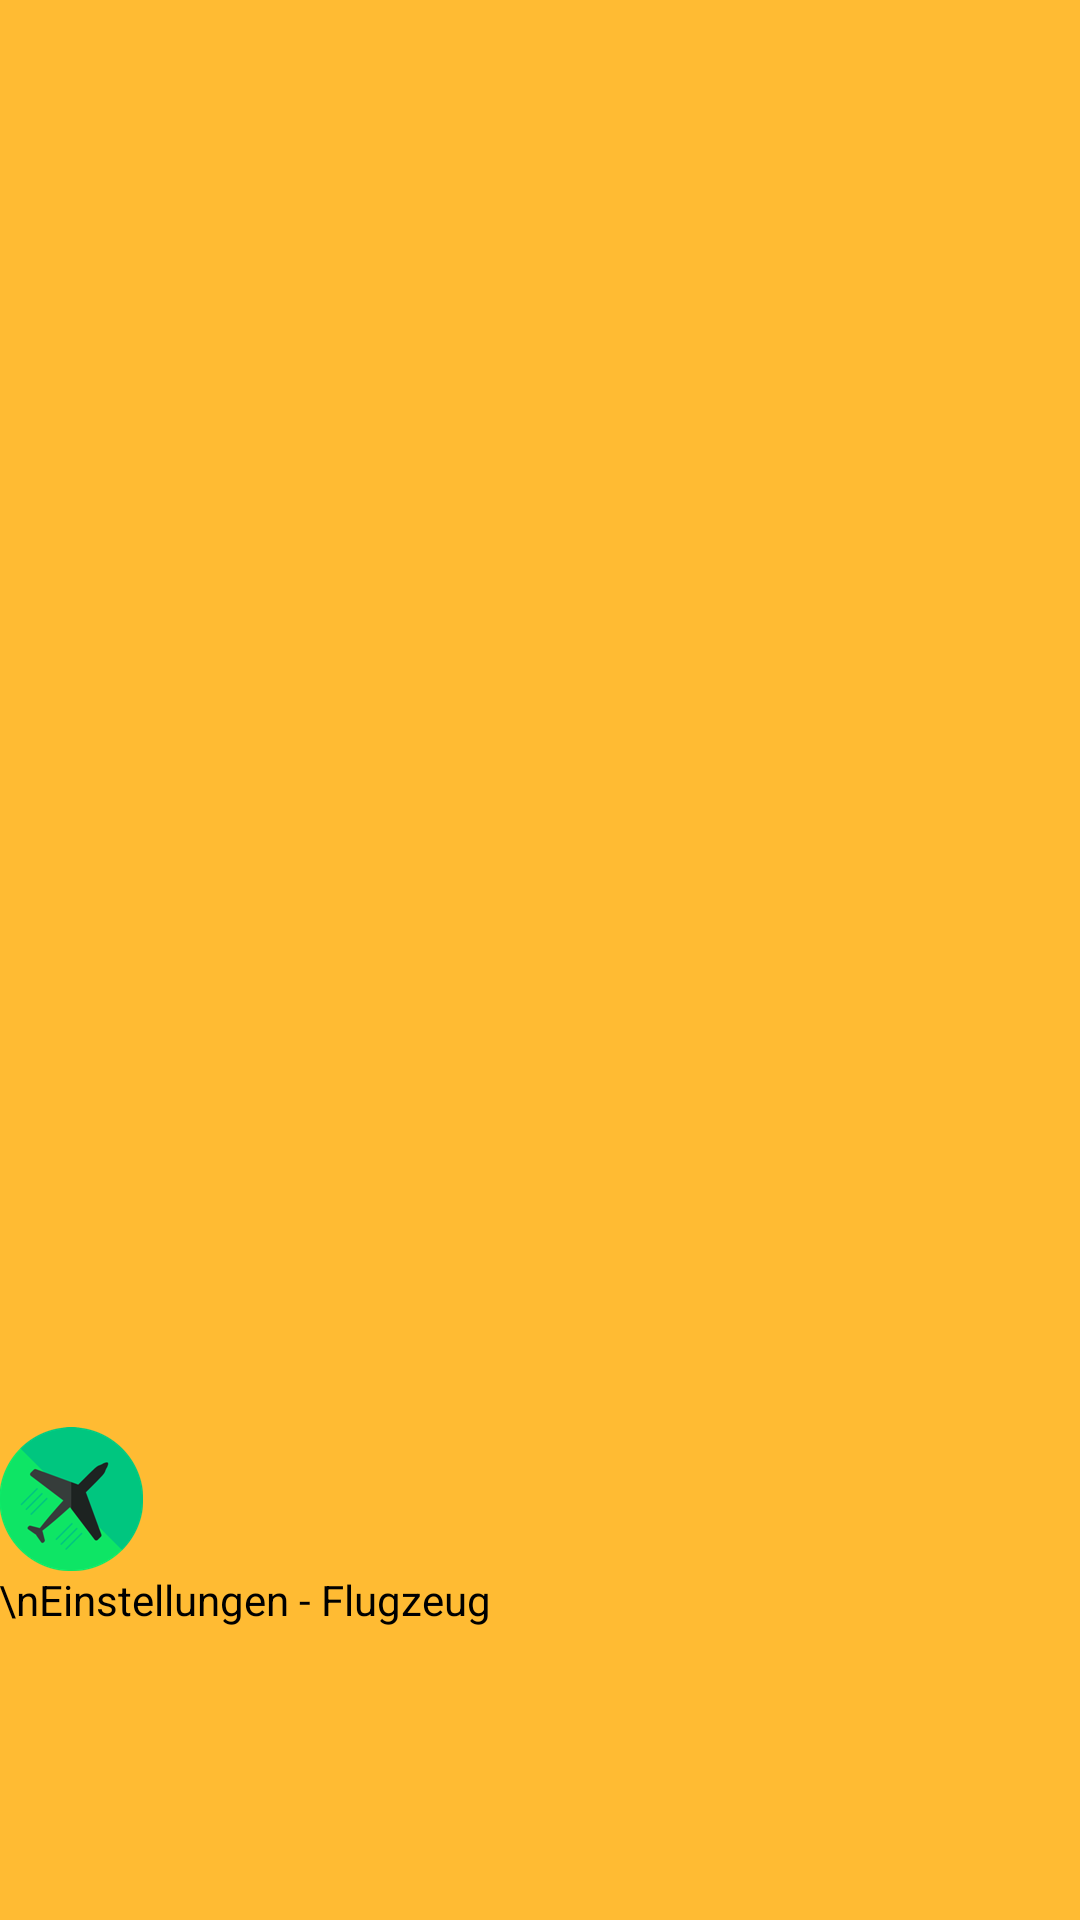

Icon bounding boxes for this 1080w x 1920h phone screenshot, format detection(x1, y1, x2, y2):
aeroplane: detection(0, 1427, 143, 1571)
